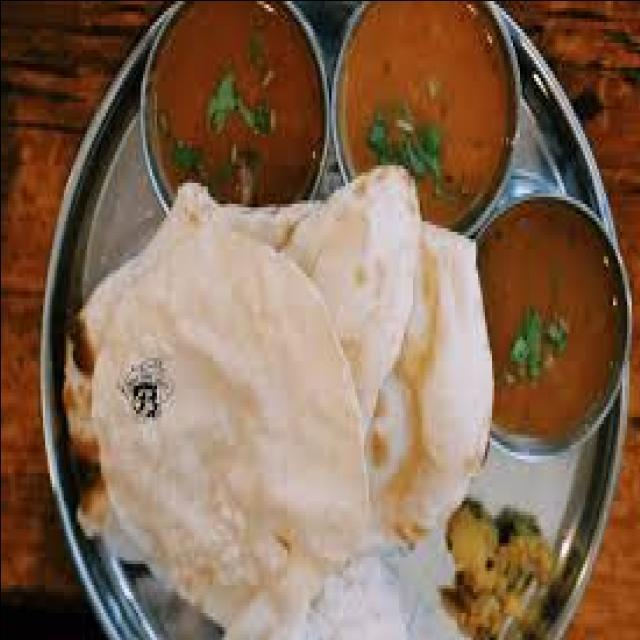dal: (480, 200, 628, 456)
rice: (81, 219, 385, 602)
sambar-rasam: (144, 0, 335, 218), (341, 0, 528, 206), (481, 204, 627, 453)
veg-fry: (436, 467, 570, 640)
